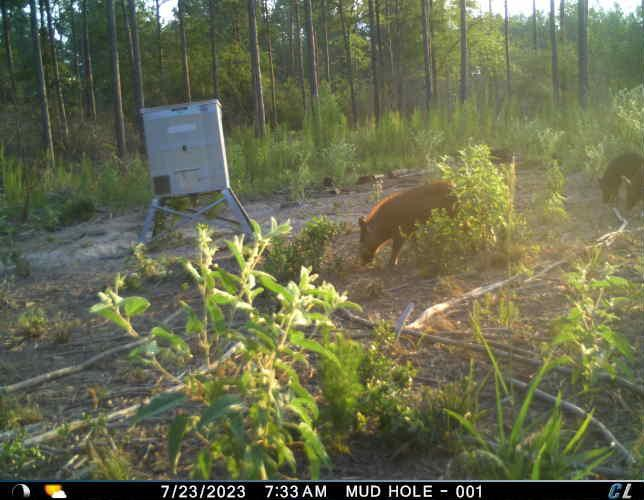Hog: (352, 175, 465, 268), (595, 151, 644, 202), (623, 159, 644, 212)
